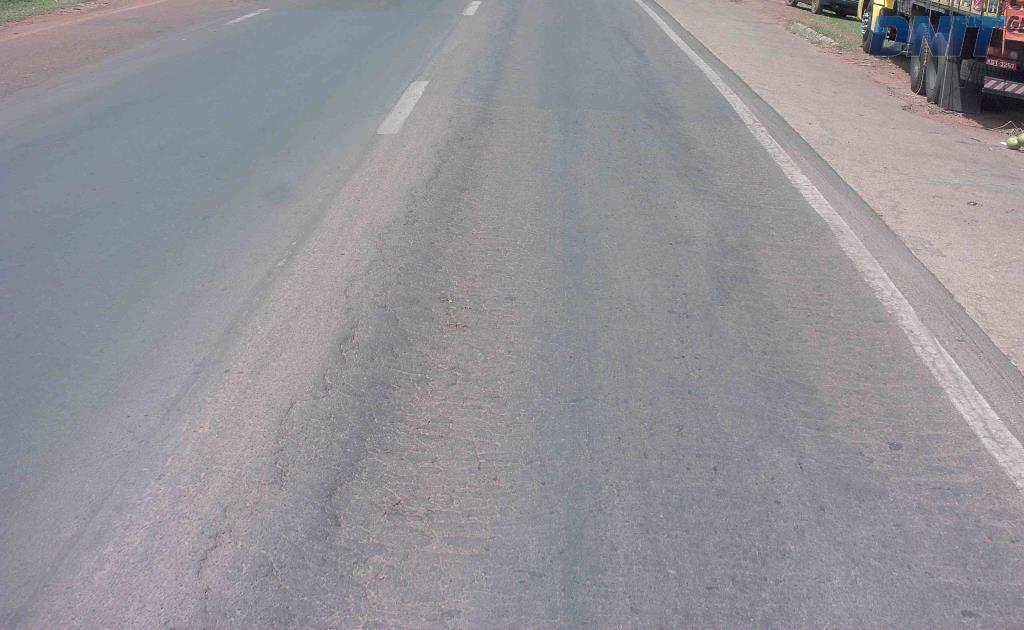crack: (317, 462, 361, 528)
